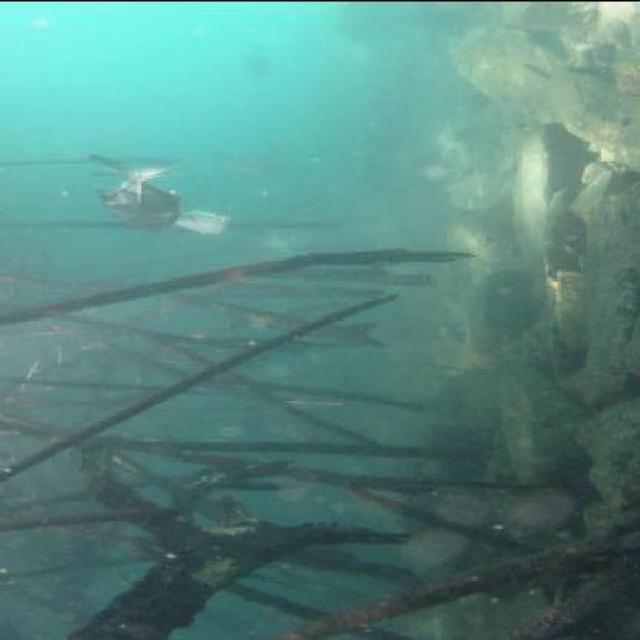Caranx_sexfasciatus_juvenile: (92, 159, 192, 233), (170, 204, 242, 238)
